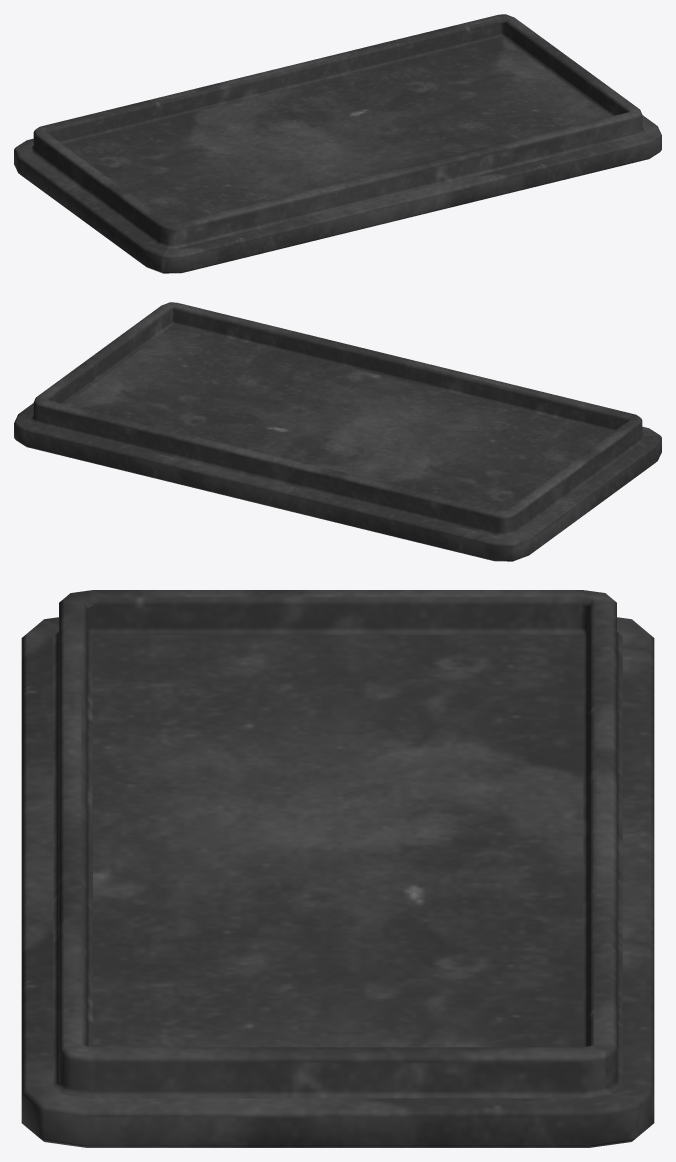
File: SM_Tupper_Cover.fbx
3 views of the same model, one above another, from view 1: azimuth 30°, elevation 25°; view 2: azimuth 150°, elevation 25°; view 3: azimuth 270°, elevation 25° (orthographic). The views are drawn at different scales.
Parts seen in each view (by area): view 1: SM_Tupper_Cover_LOD0; view 2: SM_Tupper_Cover_LOD0; view 3: SM_Tupper_Cover_LOD0.
Boxes of the visible parts, bbox=[...] form: SM_Tupper_Cover_LOD0: bbox=[14, 14, 661, 273]; SM_Tupper_Cover_LOD0: bbox=[14, 302, 661, 561]; SM_Tupper_Cover_LOD0: bbox=[21, 590, 654, 1147].
Size of the model in its own units: 21.99 by 11.74 by 1.58.
Materials: 1 (1 with a texture image).
